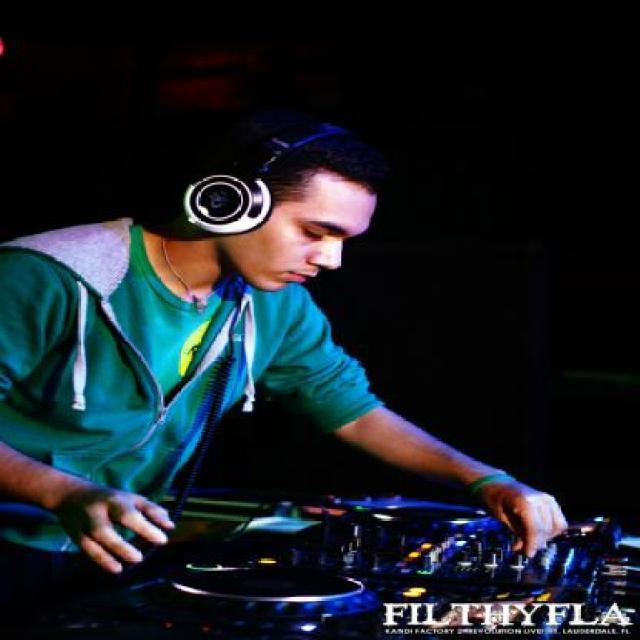earphone: (150, 125, 360, 243)
